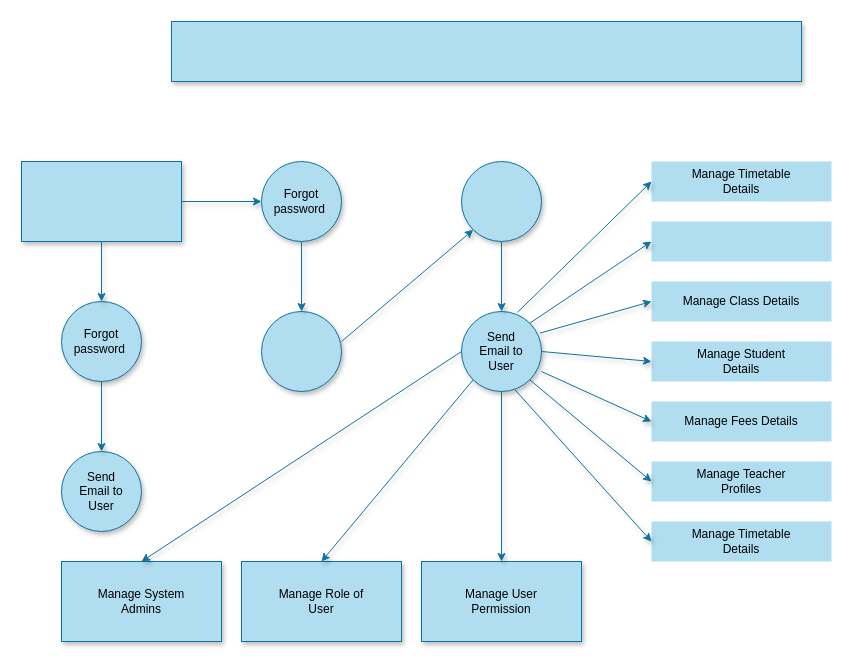
This 849x666 diagram has some shape labels left out. Each missing label, with the centre of its shape:
"Admin" belongs at [102,202].
"Check Credentials" belongs at [302,352].
"Check Role Of Access" belongs at [502,202].
"Manage Attendance Details" belongs at [741,241].
"Student Inforamtion System" belongs at [487,52].
